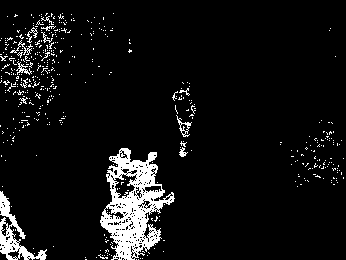person: (169, 78, 195, 161)
